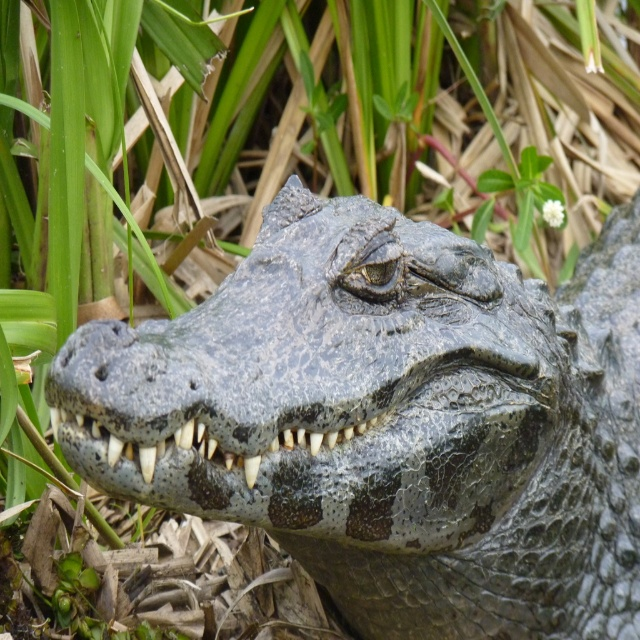Crocodile: (44, 179, 640, 639)
